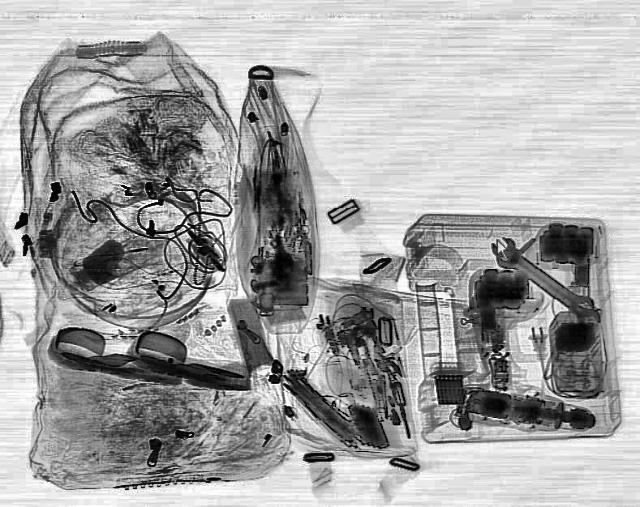Wrench: (484, 234, 600, 318), (492, 246, 610, 326)
